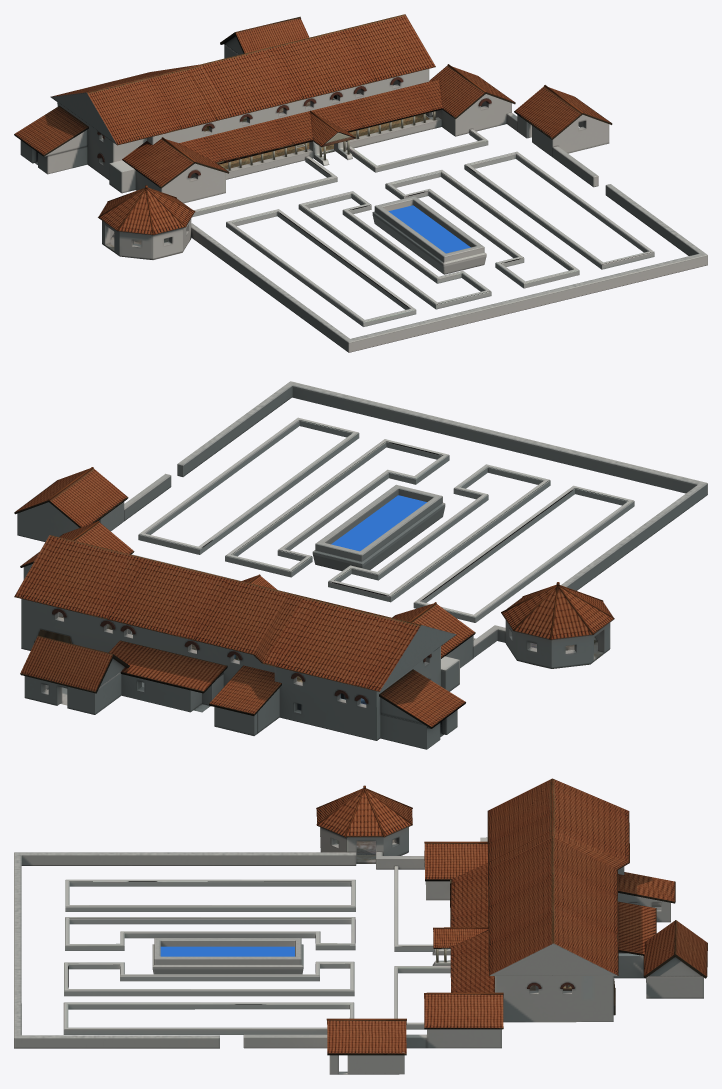
3 views of the same model, one above another, from view 1: azimuth 30°, elevation 25°; view 2: azimuth 150°, elevation 25°; view 3: azimuth 270°, elevation 25° (orthographic). The views are drawn at different scales.
Parts seen in each view (by area): view 1: VillaWalls.TEX_0, Roofs Joined.TEX_2, Water_1; view 2: VillaWalls.TEX_0, Roofs Joined.TEX_2, Water_1; view 3: VillaWalls.TEX_0, Roofs Joined.TEX_2, Water_1.
Part boxes in pixels (box(x1,y1,x2,y2)): VillaWalls.TEX_0: box(20, 44, 707, 352); Roofs Joined.TEX_2: box(14, 14, 612, 235); Water_1: box(388, 205, 470, 253); VillaWalls.TEX_0: box(17, 381, 707, 749); Roofs Joined.TEX_2: box(14, 467, 614, 728); Water_1: box(331, 495, 426, 551); VillaWalls.TEX_0: box(14, 816, 703, 1074); Roofs Joined.TEX_2: box(316, 778, 707, 1055); Water_1: box(160, 946, 294, 956).
Bounding box in the file's own units: 29.6 × 5 × 34.43.
3 materials, 2 textured.
